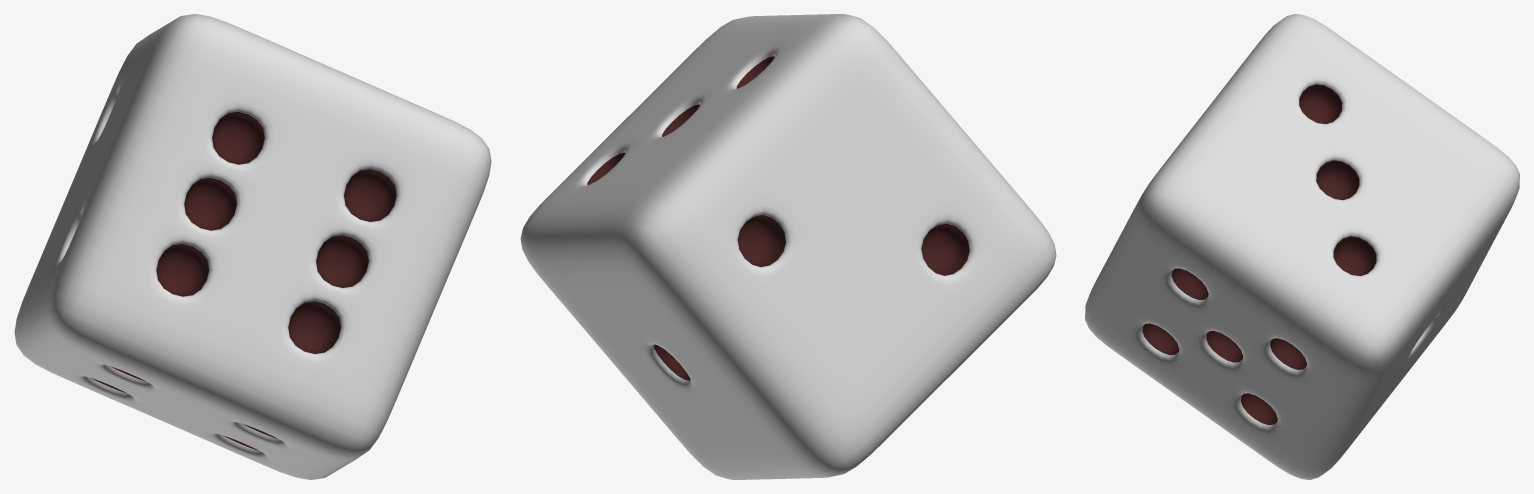
Rendered from dado.glb.
3 renders of one model, left to right at view 1: azimuth 30°, elevation 25°; view 2: azimuth 150°, elevation 25°; view 3: azimuth 270°, elevation 25°, orthographic. The views are drawn at different scales.
Visible parts, largest first — view 1: dado; view 2: dado; view 3: dado.
Part boxes in pixels (x1=…): dado: x1=14, y1=14, x2=491, y2=479; dado: x1=520, y1=14, x2=1056, y2=479; dado: x1=1085, y1=14, x2=1519, y2=479.
Bounding box in the file's own units: 2.35 × 2.37 × 2.27.
